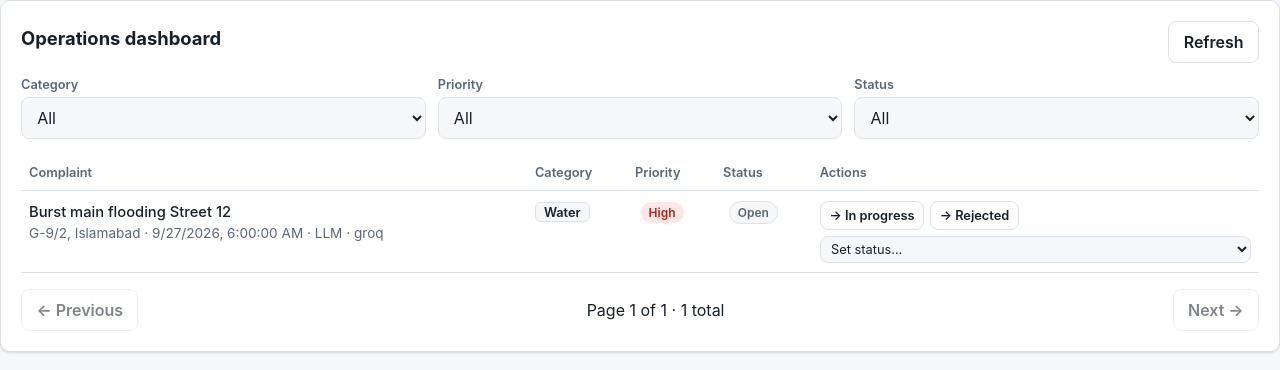
DashboardPage › renders only server-provided transitions as buttons and applies a valid one
This screenshot has width=1280, height=370.
Click the button "→ In progress" at (872, 215), box [820,201,924,230]
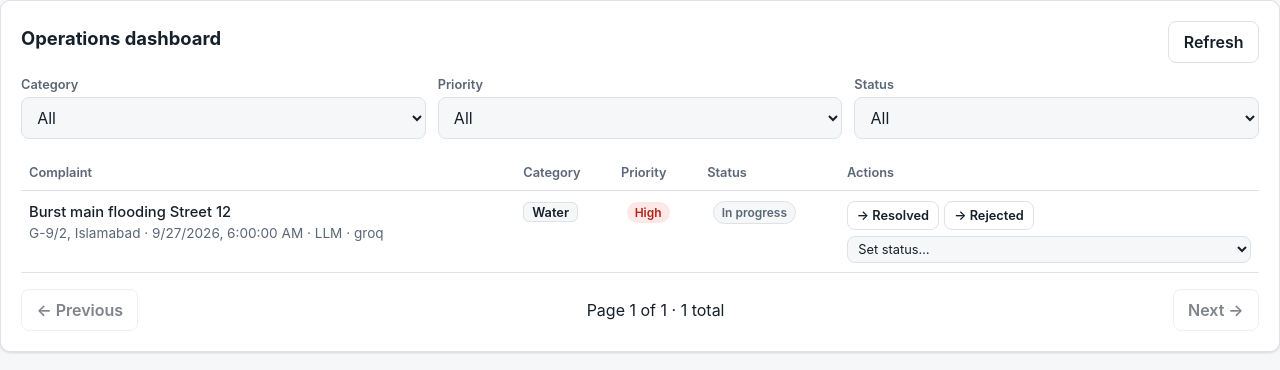
Check: the text "In progress" is shown, box [713,201,796,224]
Check: the button "→ Resolved" is shown, box [847,201,939,230]
